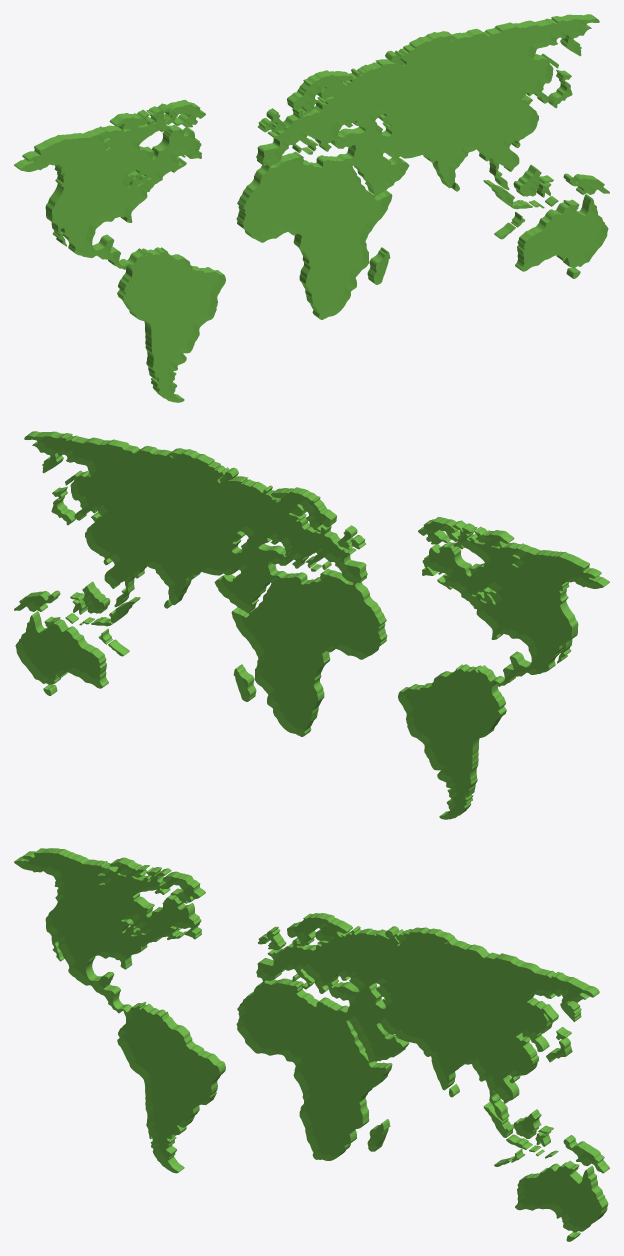
The model's file is map.gltf.
3 views of the same model, one above another, from view 1: azimuth 30°, elevation 25°; view 2: azimuth 150°, elevation 25°; view 3: azimuth 330°, elevation 25° (orthographic).
Parts seen in each view (by area): view 1: Cap_1_18, Cap_1_21, Extrude_17, Extrude_20, Cap_1_12, Extrude_11; view 2: Cap_2_18, Cap_2_21, Extrude_17, Extrude_20, Cap_2_12, Extrude_11; view 3: Cap_1_18, Cap_1_21, Extrude_17, Extrude_20, Cap_1_12, Extrude_11.
Boxes of the visible parts, bbox=[...] form: Cap_1_18: bbox=[242, 18, 599, 319]; Cap_1_21: bbox=[20, 104, 225, 402]; Extrude_17: bbox=[236, 14, 598, 318]; Extrude_20: bbox=[14, 100, 225, 402]; Cap_1_12: bbox=[521, 198, 608, 271]; Extrude_11: bbox=[515, 194, 603, 270]; Cap_2_18: bbox=[24, 435, 381, 736]; Cap_2_21: bbox=[398, 521, 603, 819]; Extrude_17: bbox=[26, 431, 387, 735]; Extrude_20: bbox=[400, 517, 609, 816]; Cap_2_12: bbox=[15, 615, 102, 688]; Extrude_11: bbox=[20, 611, 108, 687]; Cap_1_18: bbox=[236, 917, 593, 1160]; Cap_1_21: bbox=[14, 852, 219, 1173]; Extrude_17: bbox=[238, 913, 599, 1156]; Extrude_20: bbox=[14, 848, 225, 1172]; Cap_1_12: bbox=[515, 1165, 602, 1232]; Extrude_11: bbox=[516, 1160, 608, 1230].
Bounding box in the file's own units: 548 × 268 × 10.05.
